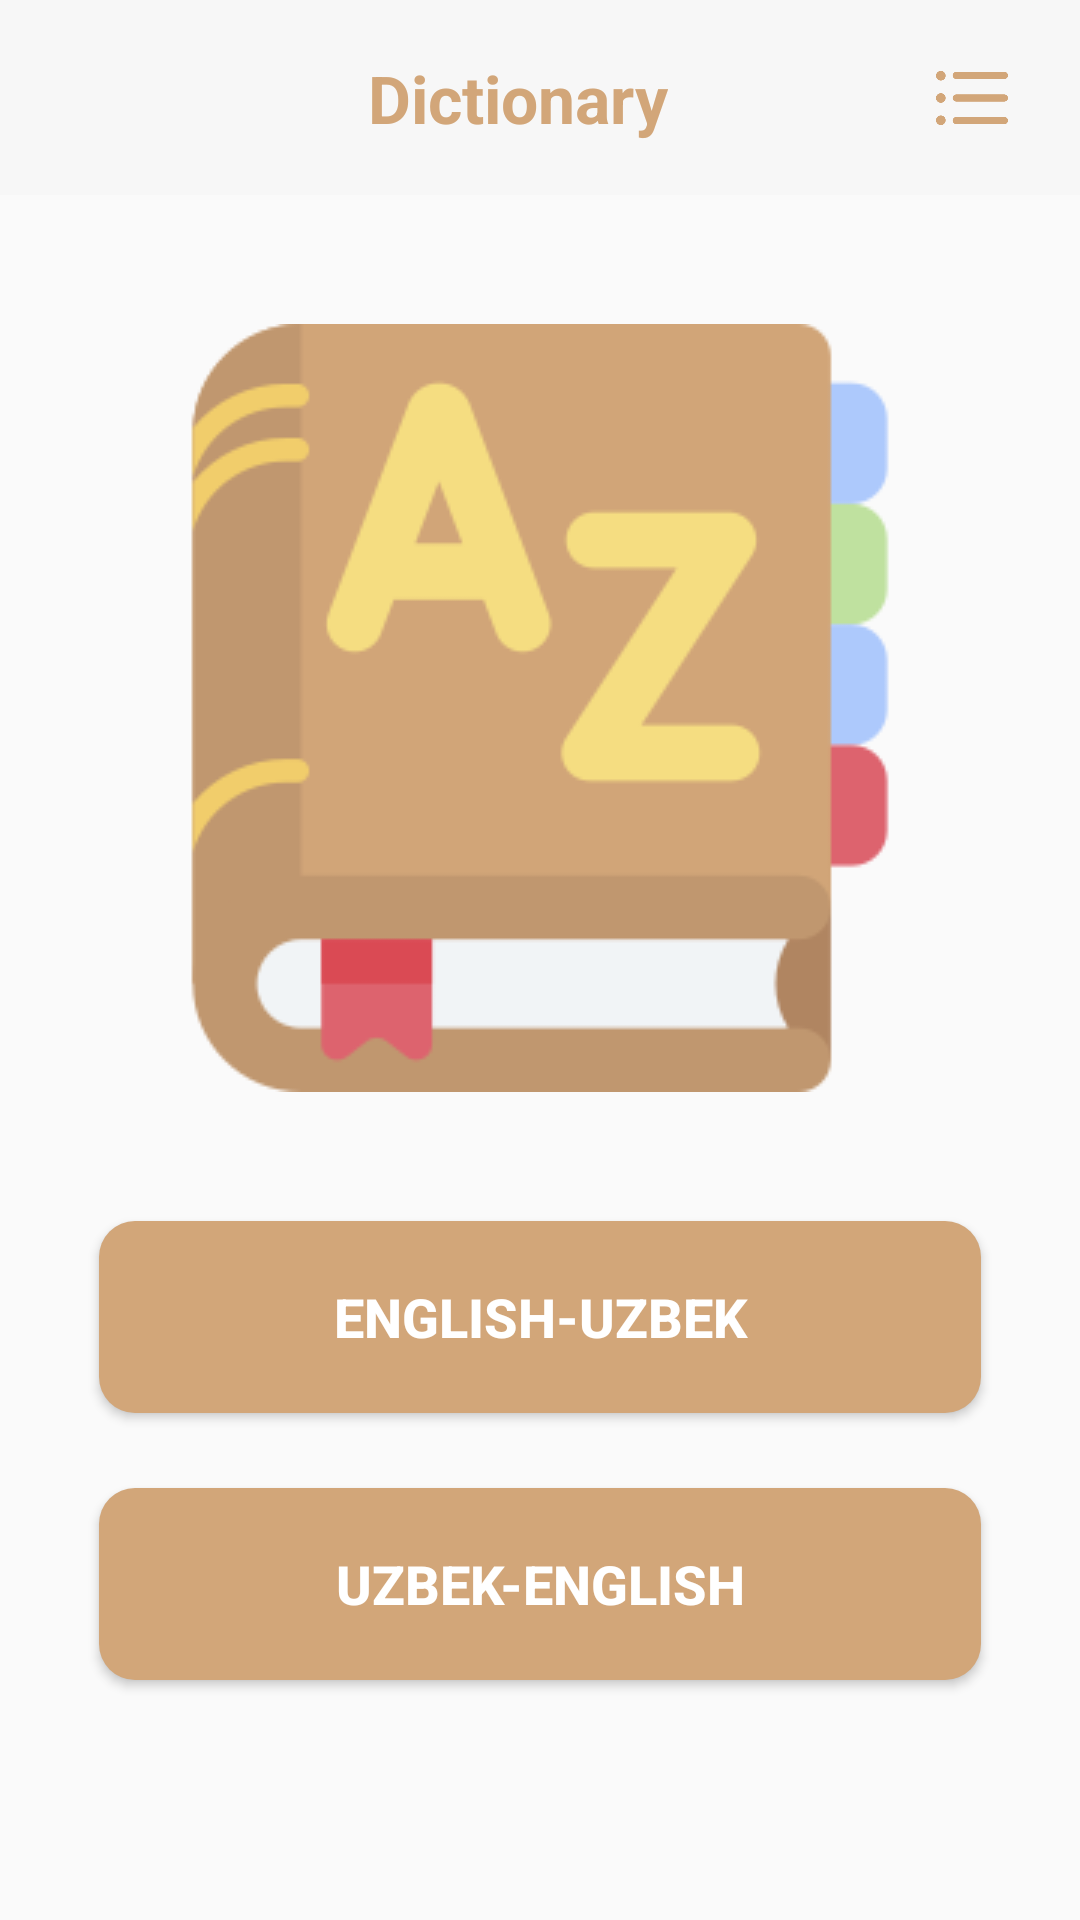

Point at icon controls on the screen. Image size 1080px x 1920px, points as [x,y].
menu: [972,98]
